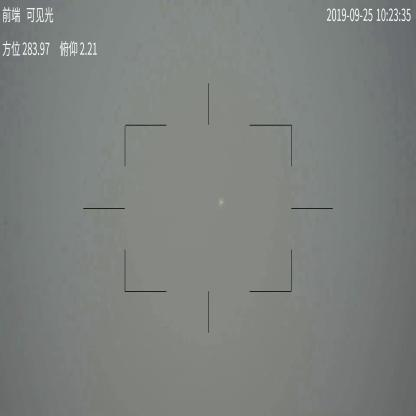uav: (217, 197, 225, 207)
